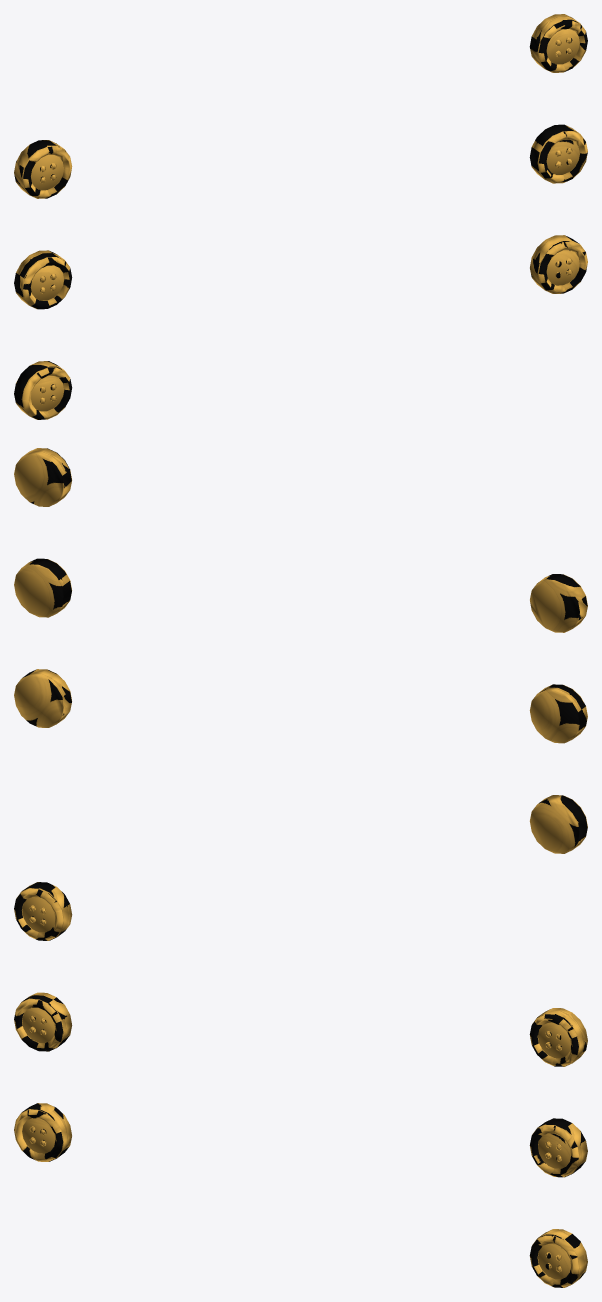
Rendered from Mascarada_Saco_Oro.fbx.
3 views of the same model, one above another, from view 1: azimuth 30°, elevation 25°; view 2: azimuth 150°, elevation 25°; view 3: azimuth 330°, elevation 25° (orthographic).
Parts seen in each view (by area): view 1: Mascarada_Saco_Oro; view 2: Mascarada_Saco_Oro; view 3: Mascarada_Saco_Oro.
Part boxes in pixels (x1,y1,x2,y2): Mascarada_Saco_Oro: [14, 14, 587, 419]; Mascarada_Saco_Oro: [14, 448, 587, 853]; Mascarada_Saco_Oro: [14, 882, 587, 1287].
Size of the model in its own units: 1.37 by 0.6308 by 0.0451.
